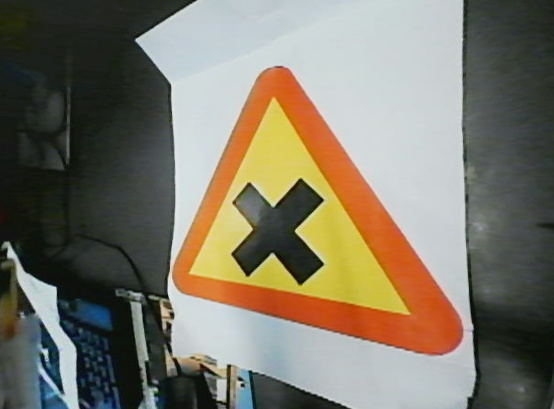junction: (148, 58, 487, 368)
